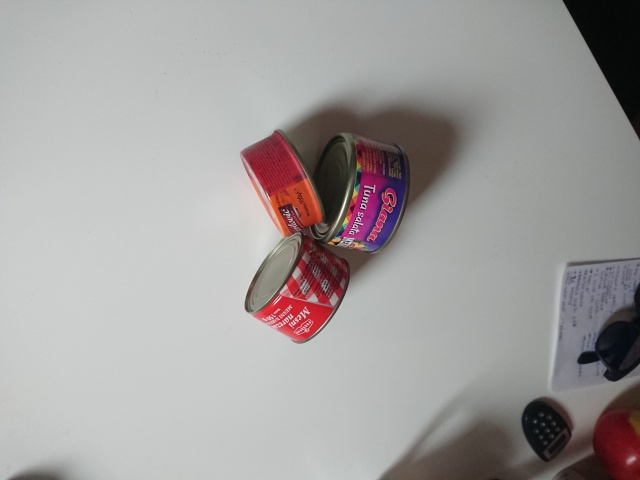Gavrilovic Pork Liver Pate 100g: (237, 127, 330, 240)
Giana Tuna Salad Mexico 185g: (302, 130, 413, 256)
Podravka Luncheon Meat 150g: (242, 229, 353, 346)
